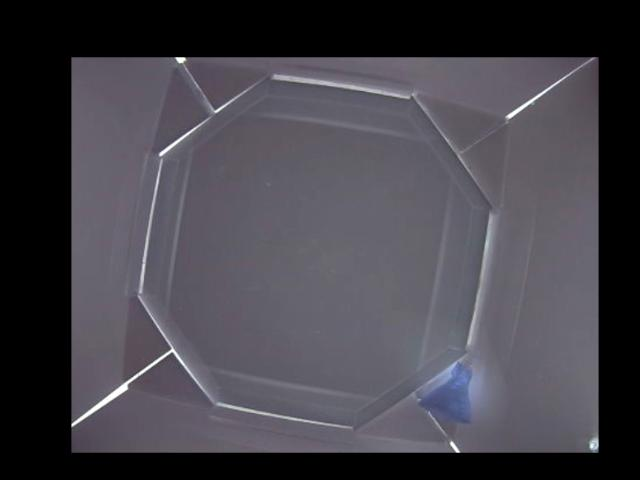Mooli: (416, 360, 473, 425)
